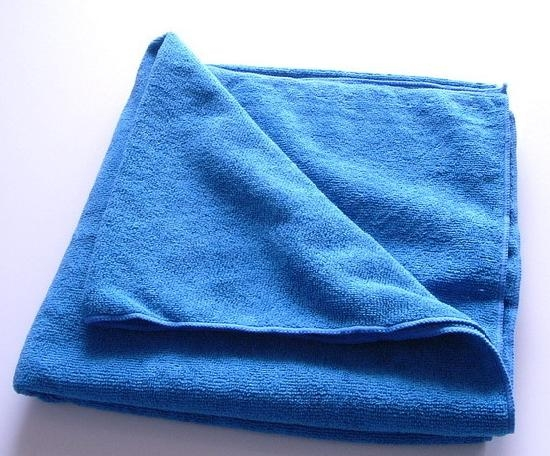flexible: (12, 29, 518, 440)
